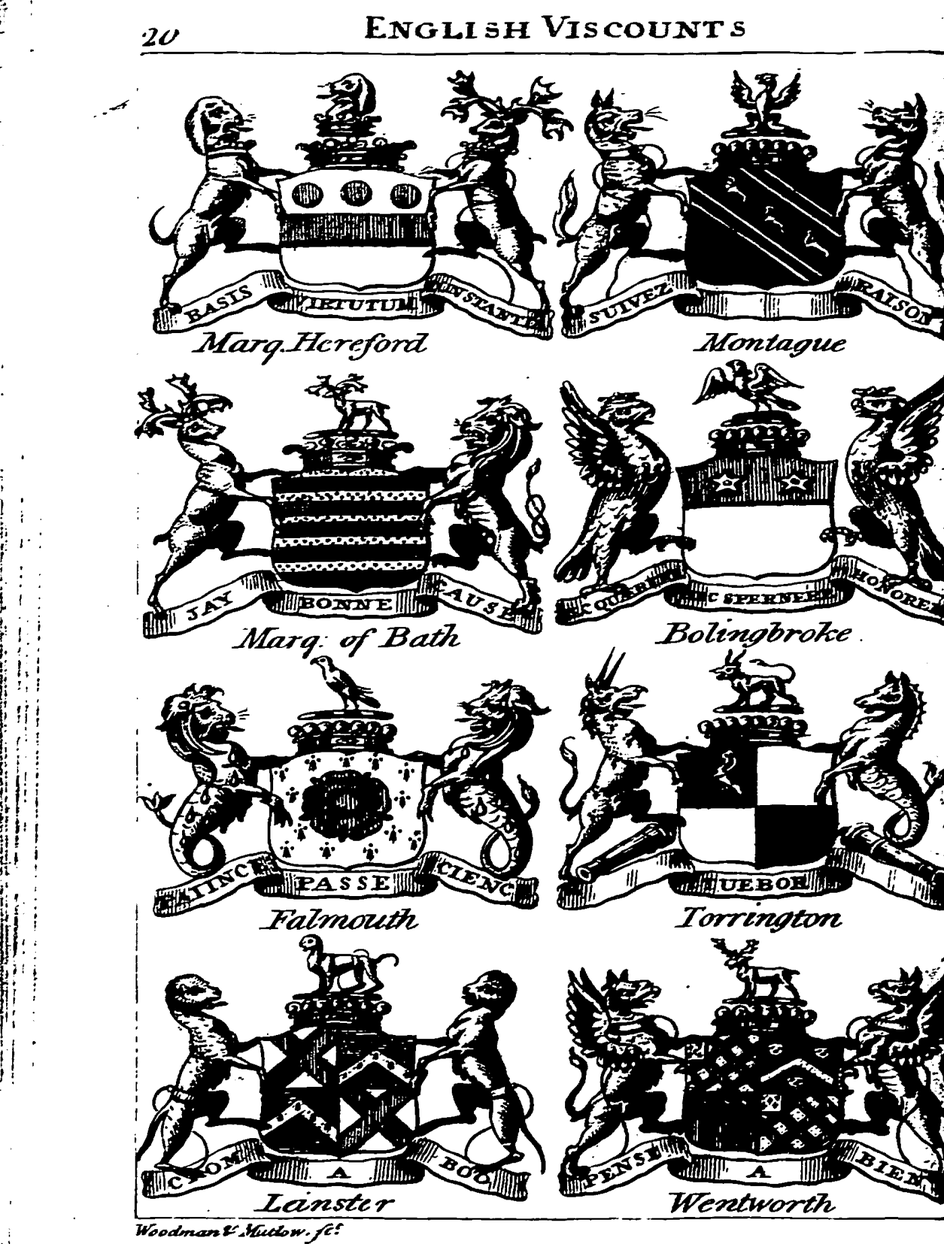coat_of_arms: (148, 57, 560, 378), (145, 364, 552, 661), (134, 654, 556, 934), (127, 935, 550, 1213), (547, 351, 937, 651), (561, 63, 944, 367), (553, 649, 943, 937), (555, 934, 944, 1214)
